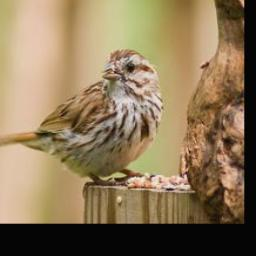Sparrow: (0, 47, 164, 199)
